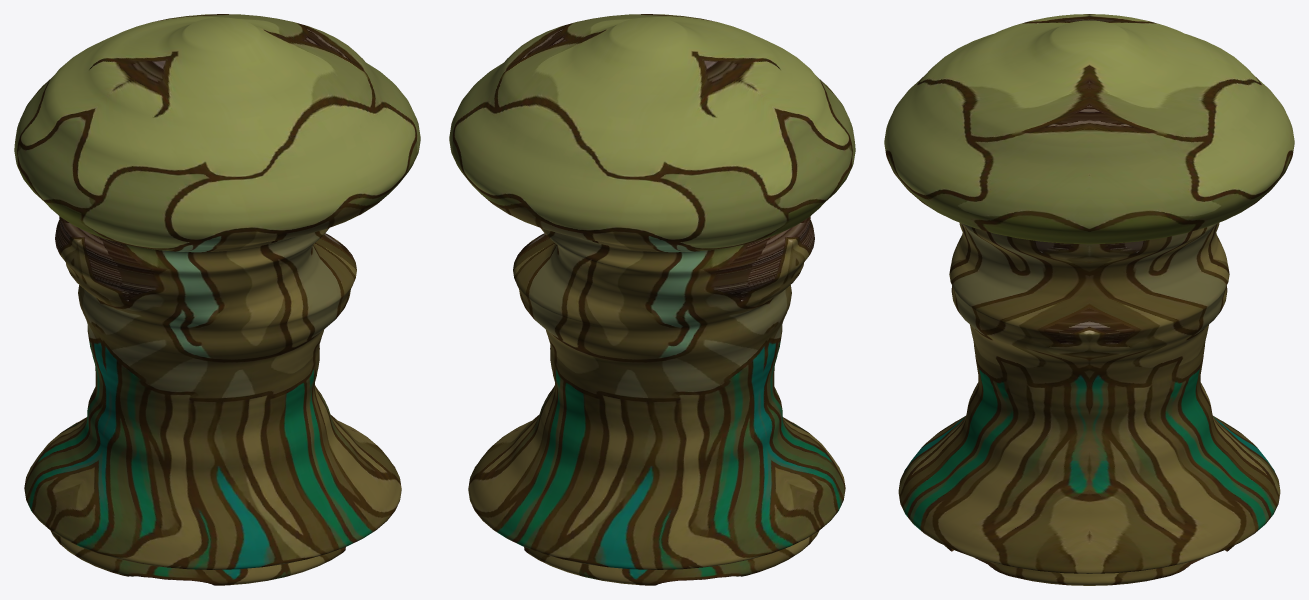
Rendered from gnarled_tree.glb.
3 renders of one model, left to right at view 1: azimuth 30°, elevation 25°; view 2: azimuth 150°, elevation 25°; view 3: azimuth 270°, elevation 25°, orthographic.
Parts seen in each view (by area): view 1: gnarled_tree; view 2: gnarled_tree; view 3: gnarled_tree.
Boxes of the visible parts, bbox=[...] form: gnarled_tree: bbox=[14, 14, 420, 585]; gnarled_tree: bbox=[449, 14, 855, 585]; gnarled_tree: bbox=[884, 14, 1294, 585].
Size of the model in its own units: 0.9981 by 1.35 by 0.9944.
1 material, 1 textured.
